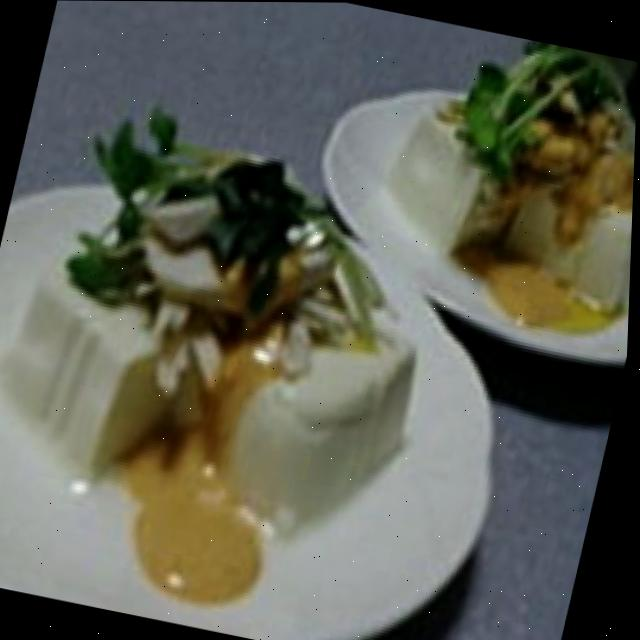豆腐料理: (0, 76, 473, 628)
